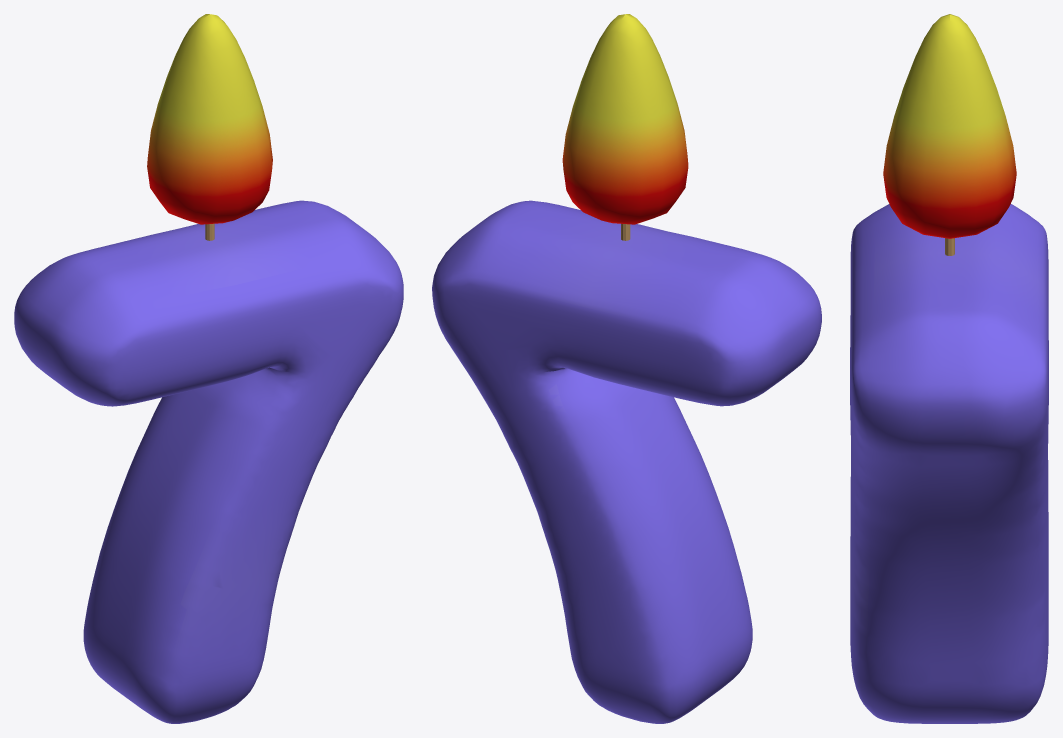
The model's file is candle_7.glb.
3 views of the same model, side by side, from view 1: azimuth 30°, elevation 25°; view 2: azimuth 150°, elevation 25°; view 3: azimuth 270°, elevation 25° (orthographic). The views are drawn at different scales.
Parts seen in each view (by area): view 1: candle_7, fire.007; view 2: candle_7, fire.007; view 3: candle_7, fire.007.
Boxes of the visible parts, x1,y1,x2,y2 form: candle_7: (14, 200, 403, 723); fire.007: (147, 14, 272, 224); candle_7: (432, 200, 821, 723); fire.007: (562, 14, 688, 224); candle_7: (850, 204, 1048, 723); fire.007: (883, 14, 1016, 238).
Bounding box in the file's own units: 0.4935 × 0.9339 × 0.2336.
Materials: 1 (1 with a texture image).
